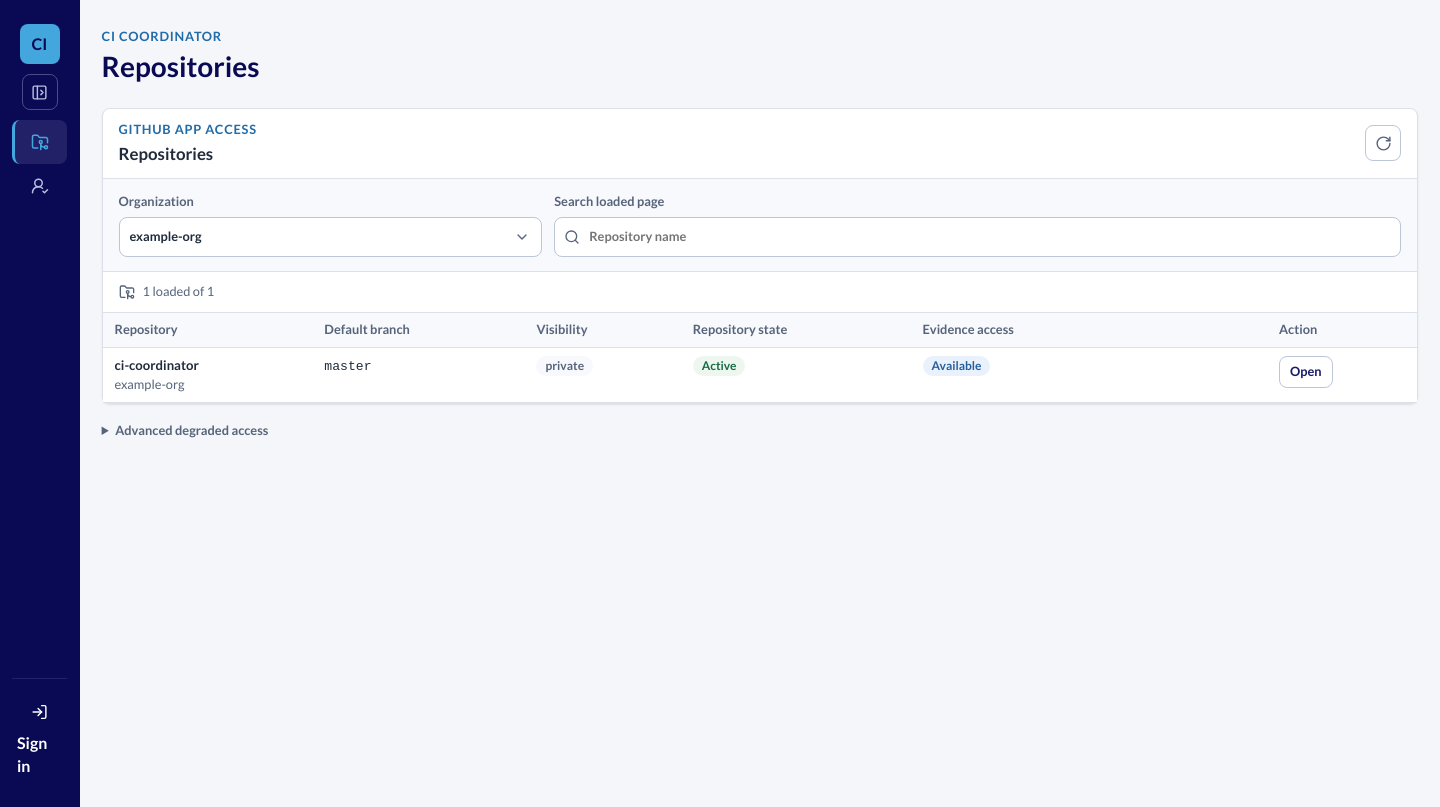
Test case: scans the selected repository and discloses evidence before policy source
This screenshot has width=1440, height=807.
Click the button "Open" at [1306, 372], box [1279,356,1333,388]
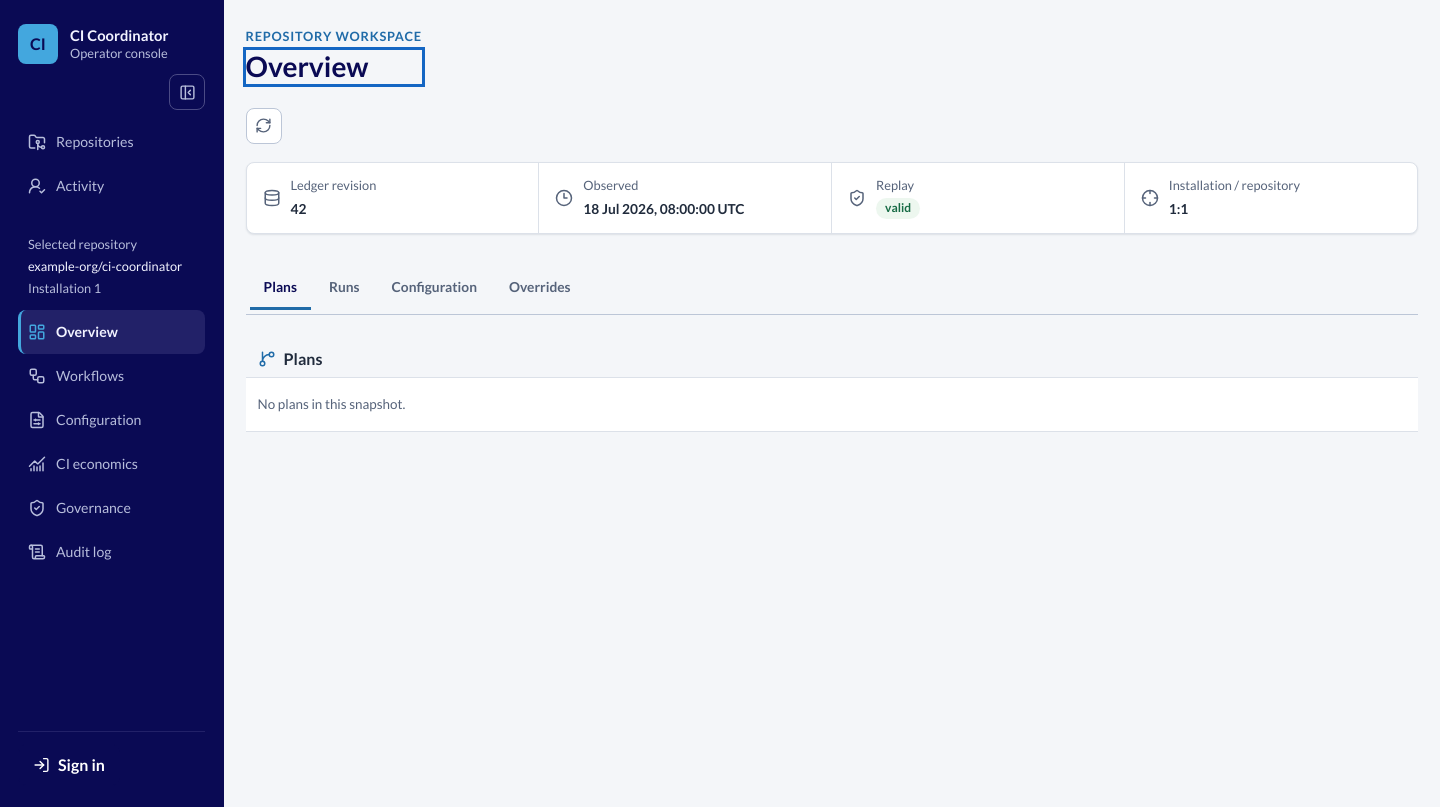
Click the link "Workflows" at [76, 376], box [28,364,124,388]
(page scrolled)
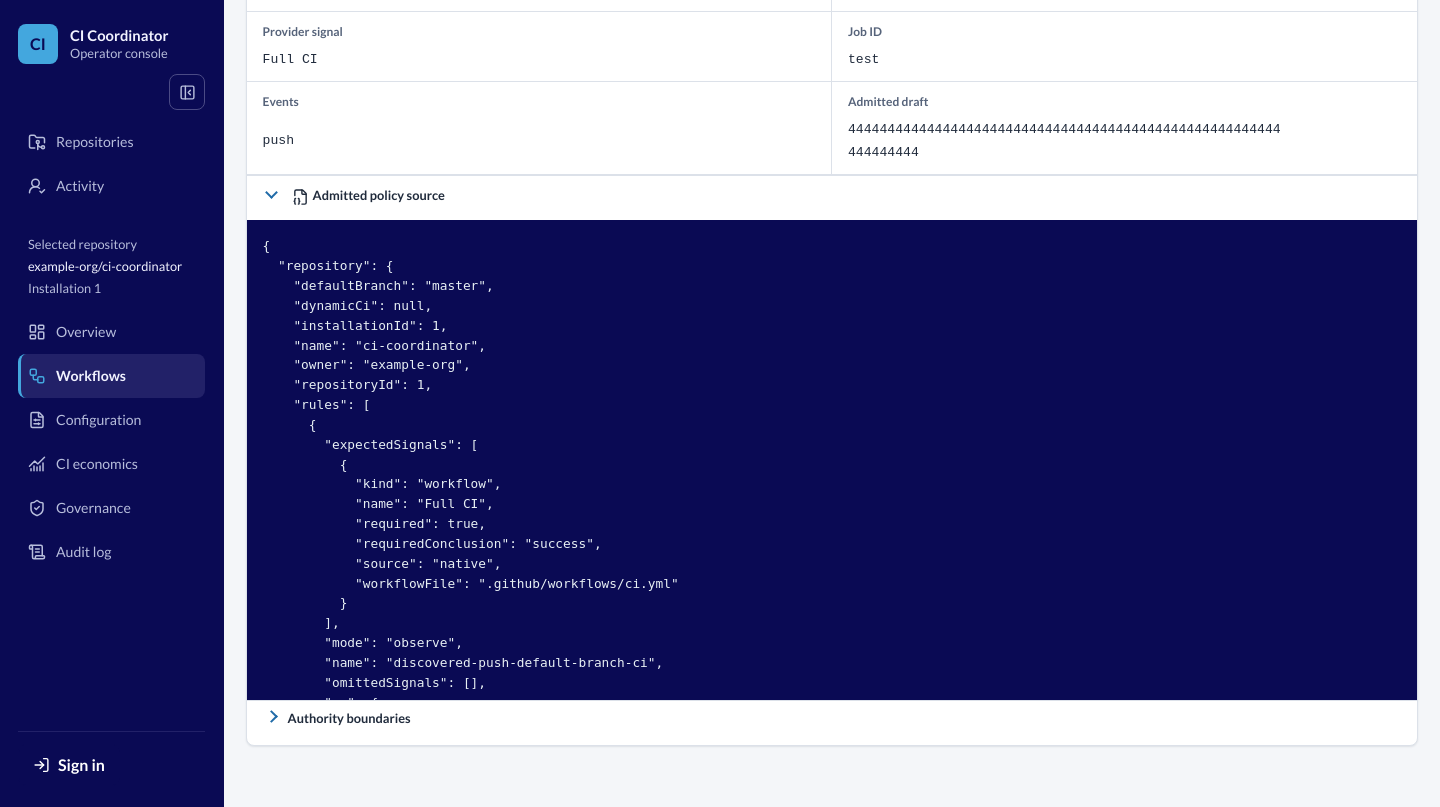
Click the heading "Authority boundaries" at [349, 718], box [288,710,411,726]
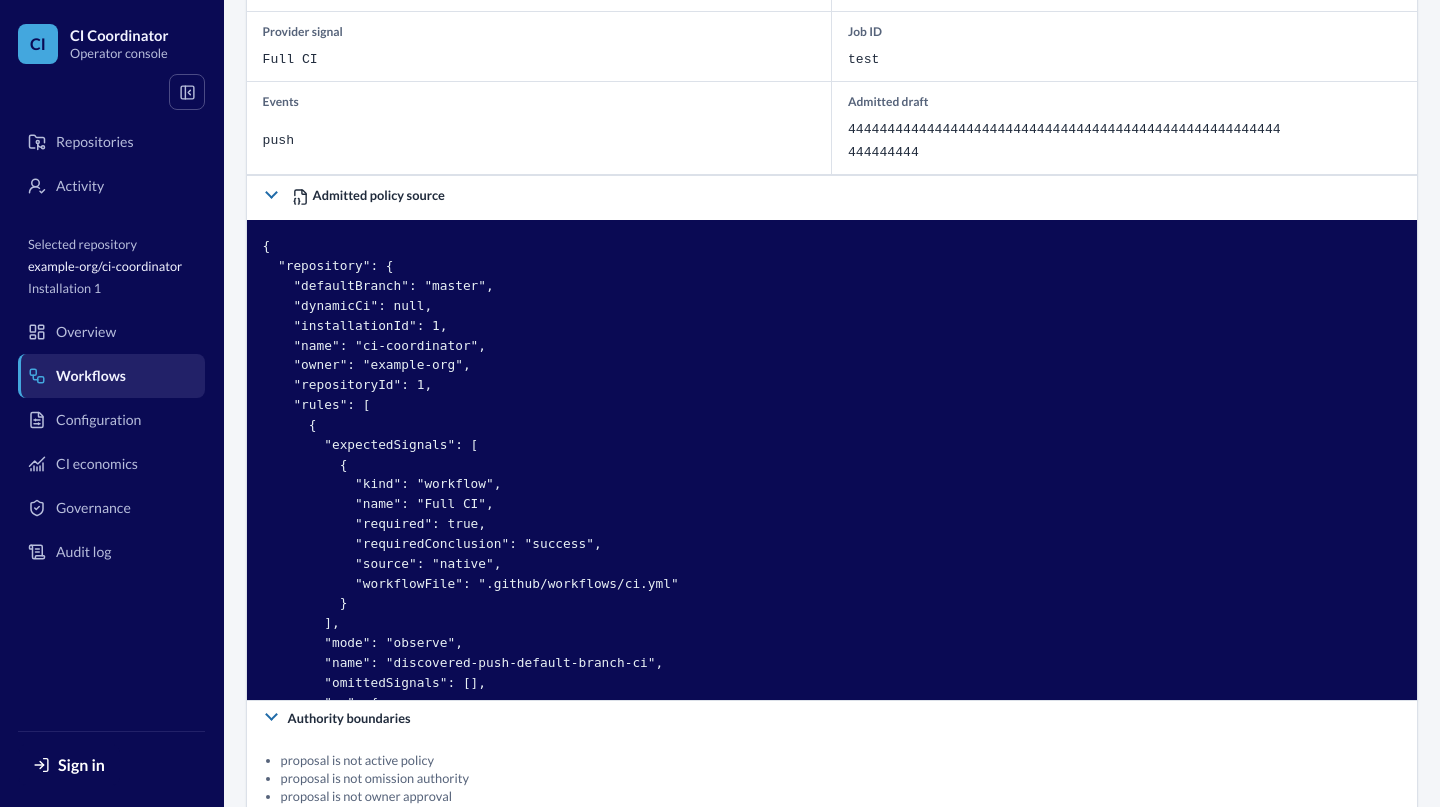
Expected: the list item "proposal is not active policy" is shown, [281,752,434,768]
